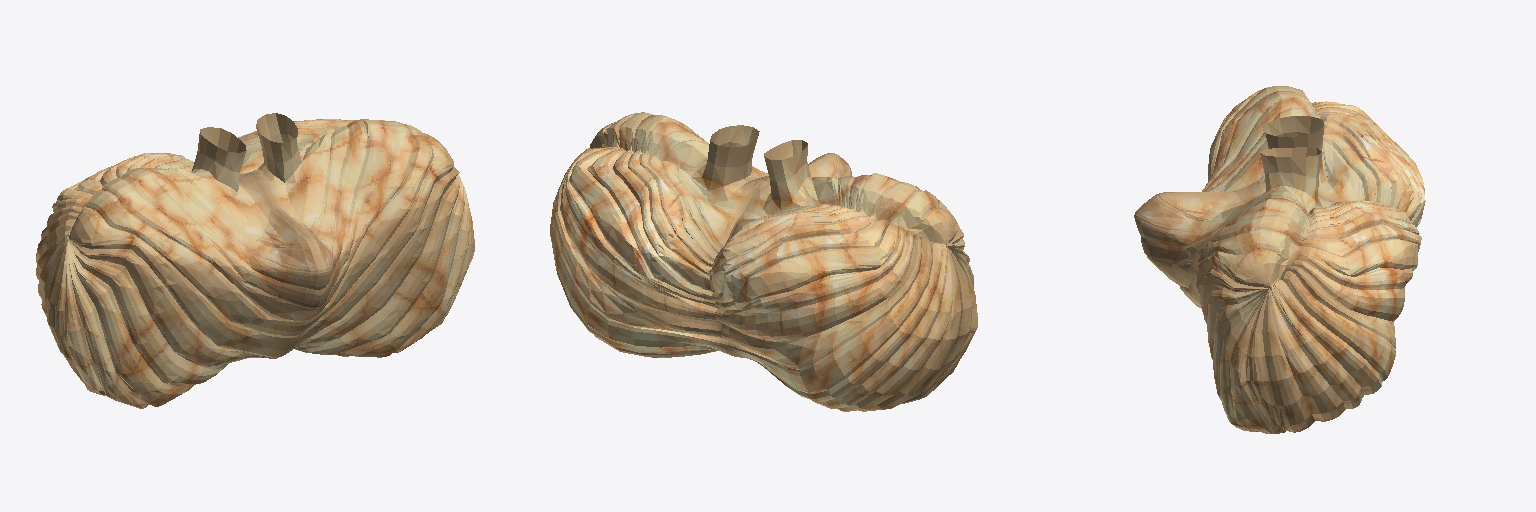
3 renders of one model, left to right at view 1: azimuth 30°, elevation 25°; view 2: azimuth 150°, elevation 25°; view 3: azimuth 270°, elevation 25°, orthographic.
Bounding box in the file's own units: 79.27 × 45.21 × 49.67.
Materials: 1 (1 with a texture image).